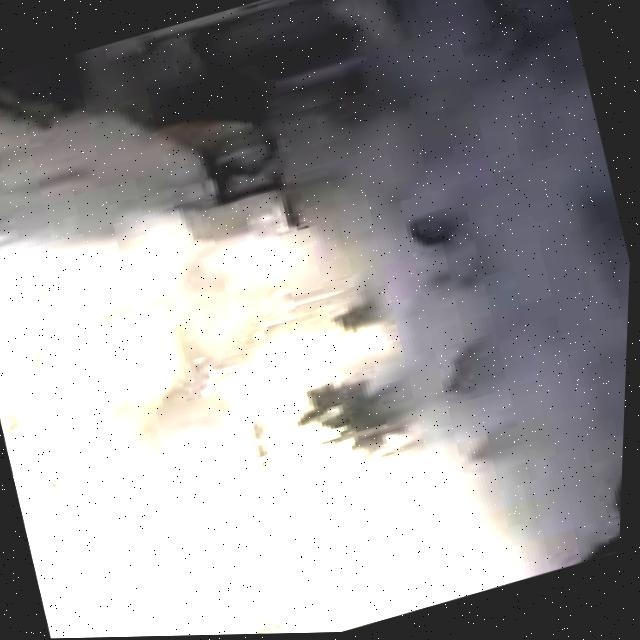Smoke: (143, 0, 640, 637), (0, 51, 371, 574)
